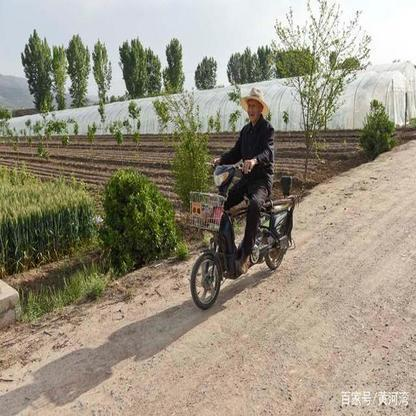target: (184, 85, 307, 310)
